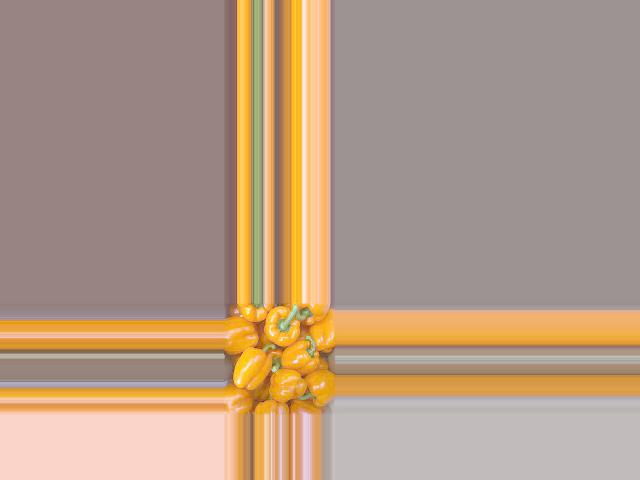bell_pepper: (282, 391, 324, 415)
